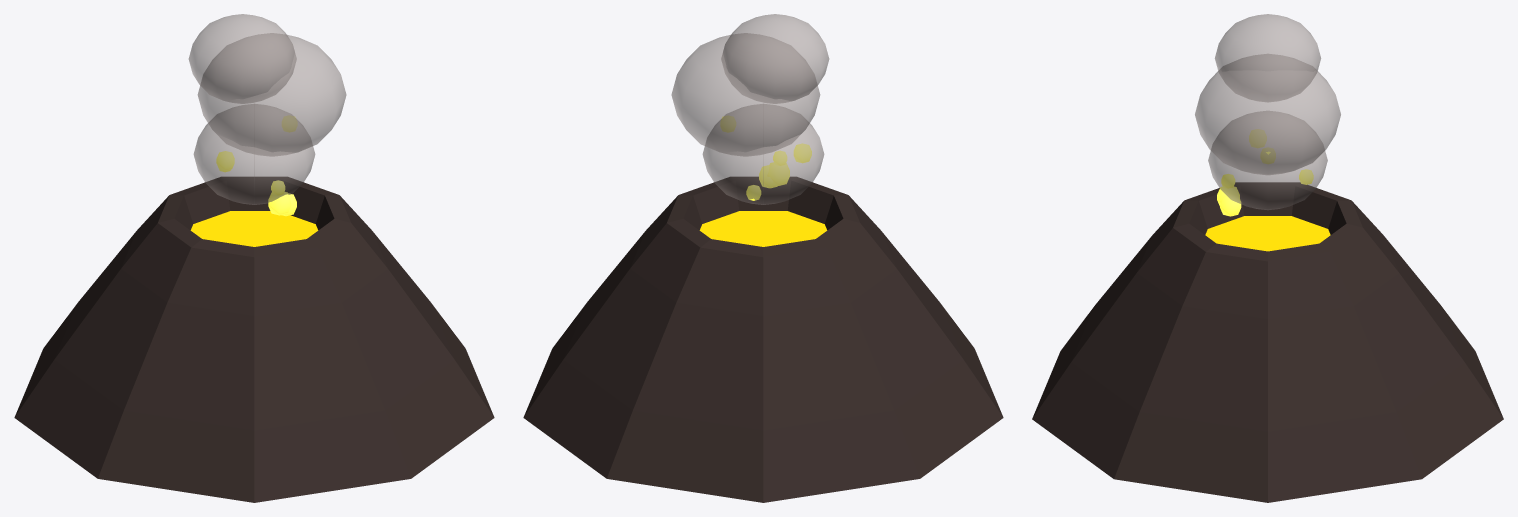
Rendered from Lava_Vent.glb.
The picture shows the model from 3 angles, left to right: view 1: azimuth 30°, elevation 25°; view 2: azimuth 150°, elevation 25°; view 3: azimuth 270°, elevation 25°; orthographic projection.
Parts seen in each view (by area): view 1: Rock, Smoke, Pool, Embers; view 2: Rock, Smoke, Pool, Embers; view 3: Rock, Smoke, Pool, Embers.
Part boxes in pixels (x1,y1,x2,y2): Rock: (14, 176, 494, 502); Smoke: (188, 14, 346, 204); Pool: (190, 211, 318, 246); Embers: (216, 116, 296, 216); Rock: (523, 176, 1003, 502); Smoke: (671, 14, 829, 204); Pool: (699, 211, 827, 246); Embers: (721, 116, 811, 200); Rock: (1032, 182, 1503, 502); Smoke: (1195, 14, 1340, 209); Pool: (1205, 216, 1330, 251); Embers: (1217, 129, 1313, 216).
Size of the model in its own units: 6.98 by 6.24 by 7.09.
